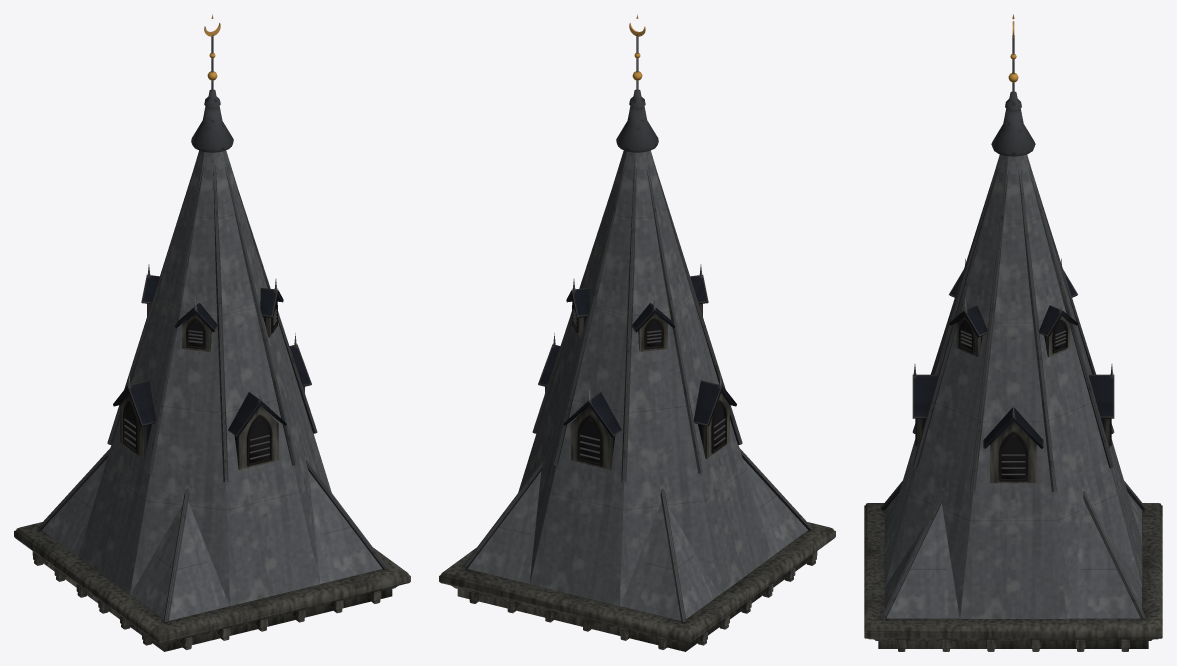
The model's file is BroachSpire.fbx.
The picture shows the model from 3 angles, left to right: view 1: azimuth 30°, elevation 25°; view 2: azimuth 150°, elevation 25°; view 3: azimuth 270°, elevation 25°; orthographic projection. The views are drawn at different scales.
Visible parts, largest first — view 1: BroachSpire_Lead, BroachSpire_Main; view 2: BroachSpire_Lead, BroachSpire_Main; view 3: BroachSpire_Lead, BroachSpire_Main.
Part boxes in pixels (box(x1,y1,x2,y2)): BroachSpire_Lead: box(42, 150, 382, 620); BroachSpire_Main: box(14, 14, 410, 651); BroachSpire_Lead: box(467, 150, 807, 620); BroachSpire_Main: box(439, 14, 835, 651); BroachSpire_Lead: box(884, 154, 1142, 618); BroachSpire_Main: box(864, 14, 1162, 651).
Bounding box in the file's own units: 890 × 1900 × 890.
